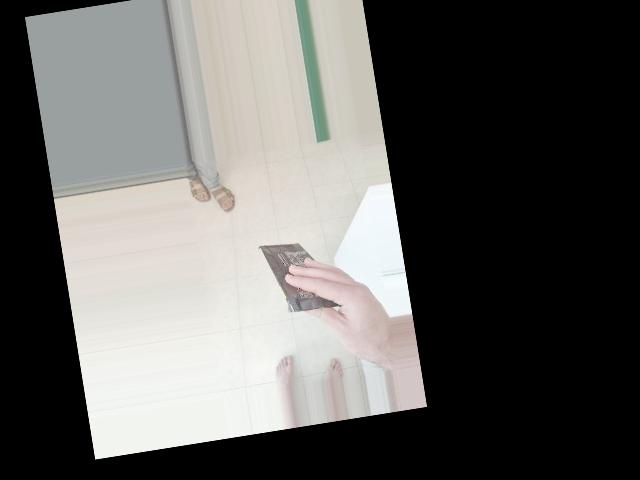chocolate: (183, 205, 297, 309)
